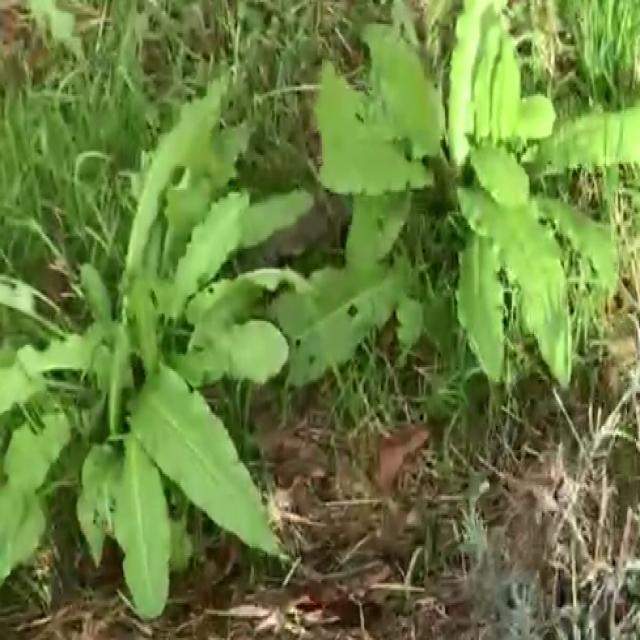organic waste: (0, 72, 314, 607), (284, 0, 640, 367)
